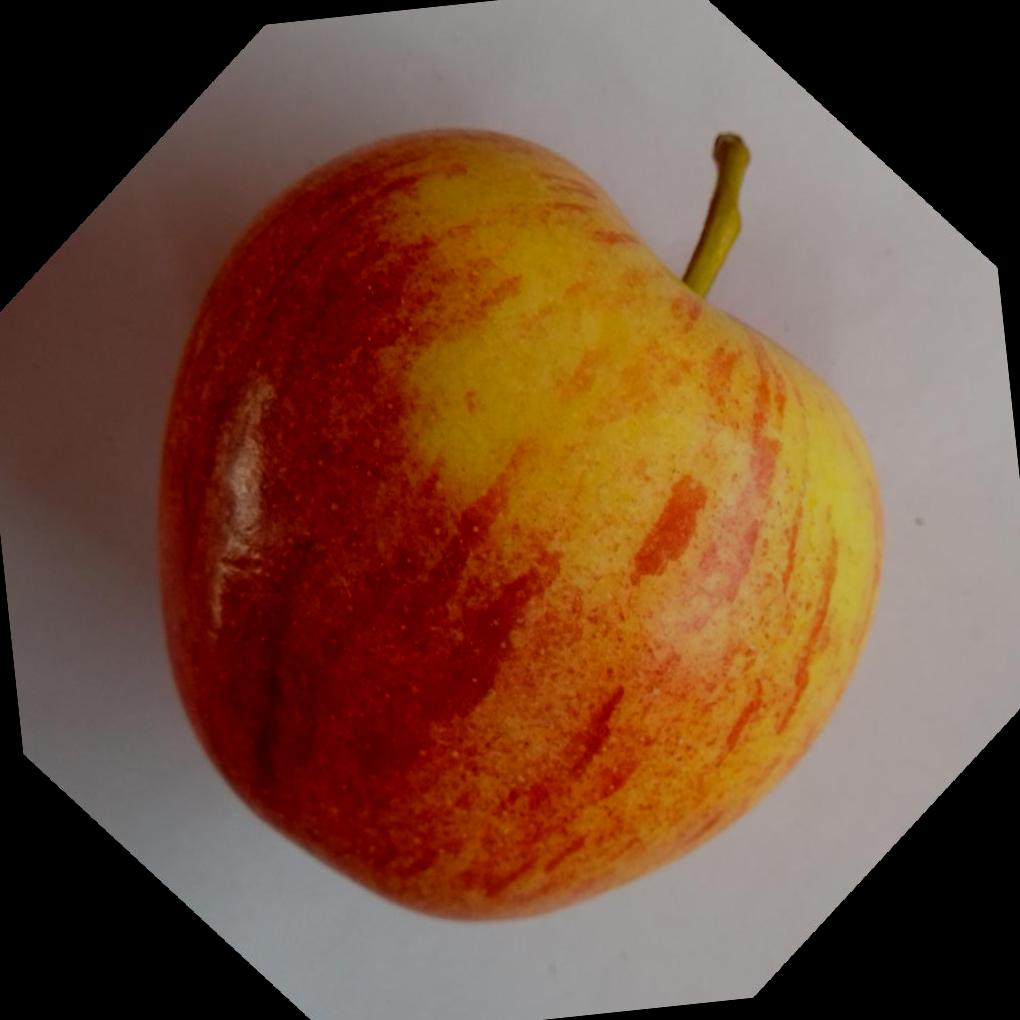FreshGuava: (156, 124, 889, 926)
